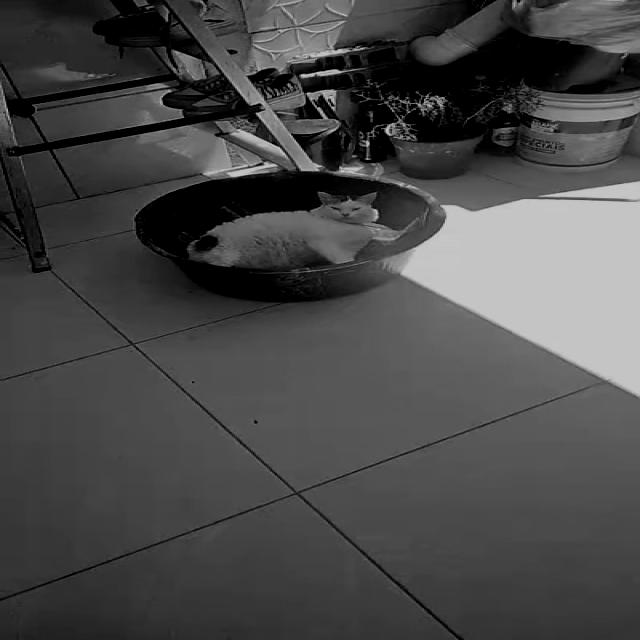Simba: (200, 190, 420, 272)
